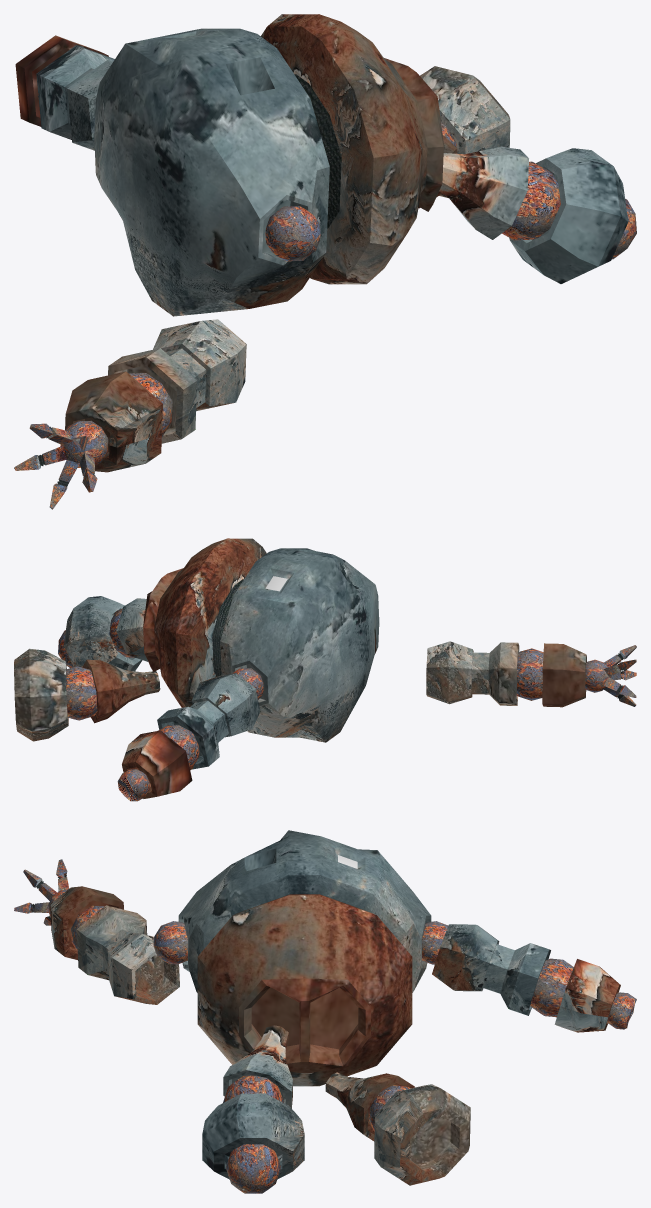
Rendered from BrokenDollObj1.fbx.
3 renders of one model, top to bottom at view 1: azimuth 30°, elevation 25°; view 2: azimuth 150°, elevation 25°; view 3: azimuth 270°, elevation 25°, orthographic. The views are drawn at different scales.
Visible parts, largest first — view 1: BrokenDollObj.001; view 2: BrokenDollObj.001; view 3: BrokenDollObj.001.
Part boxes in pixels (box(x1,y1,x2,y2)): BrokenDollObj.001: box(14, 14, 636, 509); BrokenDollObj.001: box(14, 538, 636, 801); BrokenDollObj.001: box(14, 830, 636, 1193).
Size of the model in its own units: 185 by 68.42 by 177.
